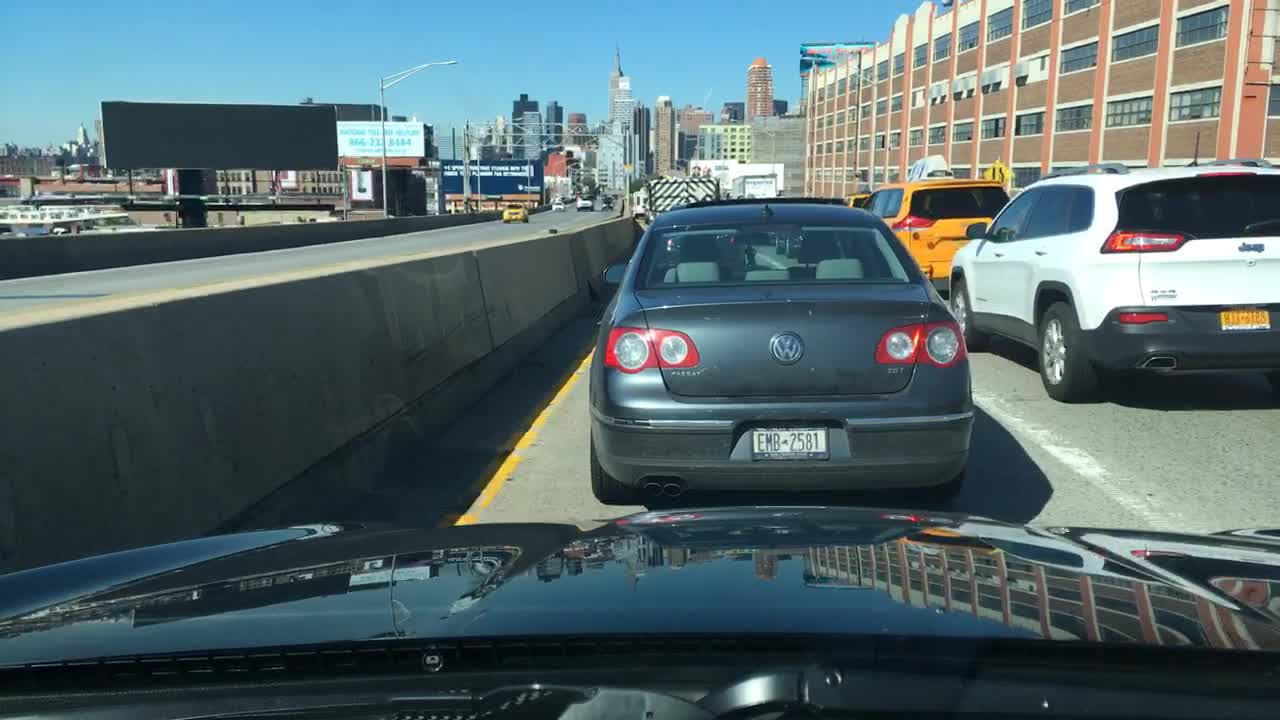car: (589, 192, 973, 505), (950, 131, 1278, 405), (862, 153, 1011, 298), (501, 201, 528, 223), (844, 192, 865, 209), (573, 194, 592, 210), (600, 197, 615, 212), (552, 193, 562, 209)
traffic sign: (978, 158, 1013, 184)
truck: (638, 176, 718, 213), (726, 159, 786, 204), (682, 160, 742, 198)
